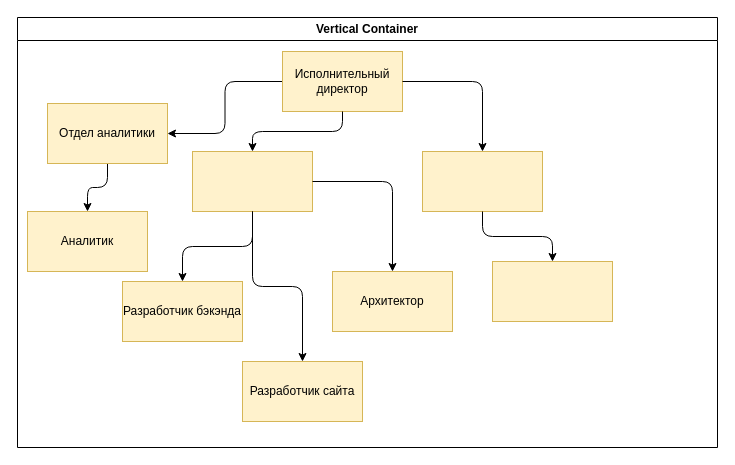
Image size: 735x465. Some labels were removed from this diagram. Each missing label, with the centre of its shape:
Маркетолог: point 552,291
Отдел маркетинга: point 482,181
Отдел разработки: point 252,181
